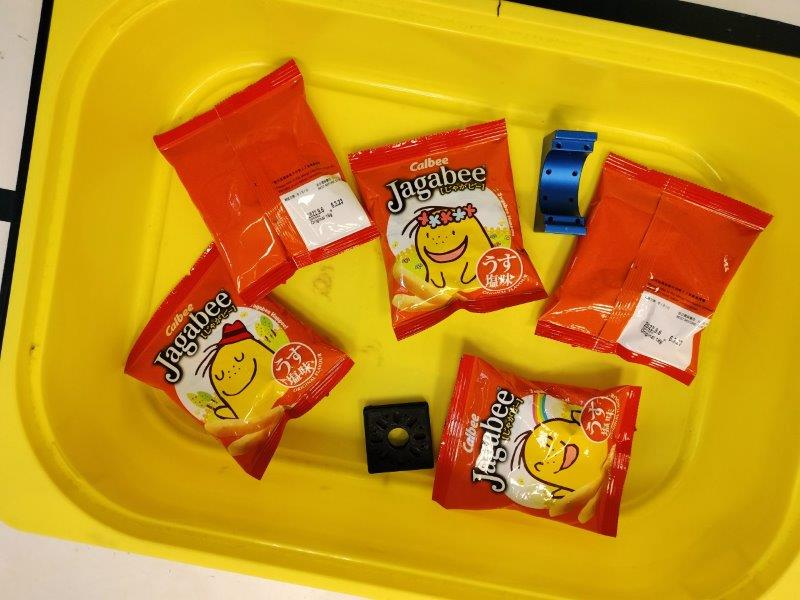Jagabee: (153, 61, 384, 307), (534, 155, 772, 387), (124, 241, 354, 480), (350, 120, 548, 341), (433, 353, 644, 537)
